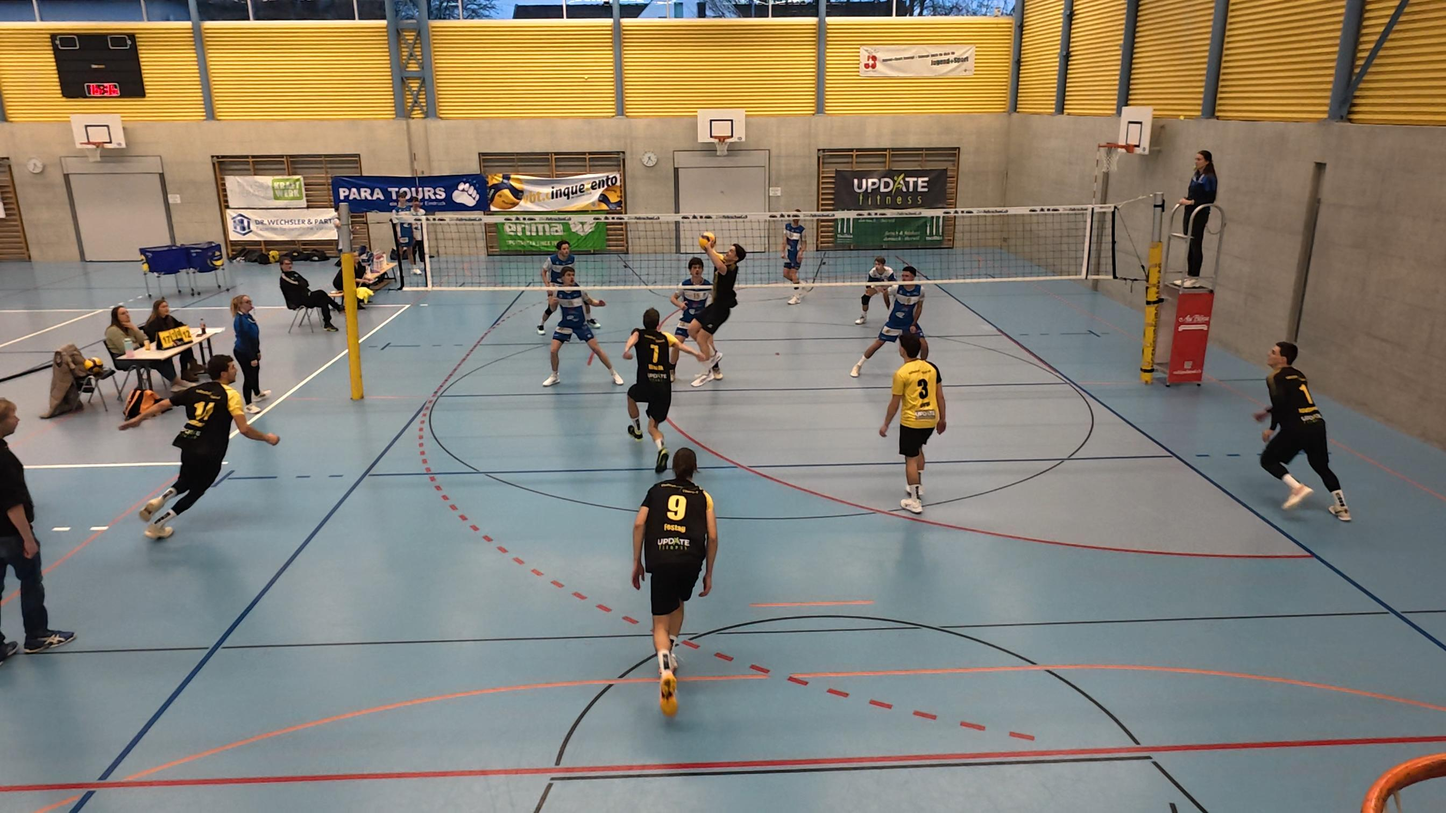Player: (122, 354, 281, 541), (632, 447, 718, 716), (1254, 340, 1351, 520), (878, 333, 945, 512), (622, 308, 693, 468), (544, 280, 615, 388), (853, 275, 924, 378), (671, 267, 721, 381), (535, 243, 582, 335), (853, 257, 895, 327), (777, 214, 807, 301)
Set: (692, 232, 753, 388)
ball: (694, 228, 718, 256)
